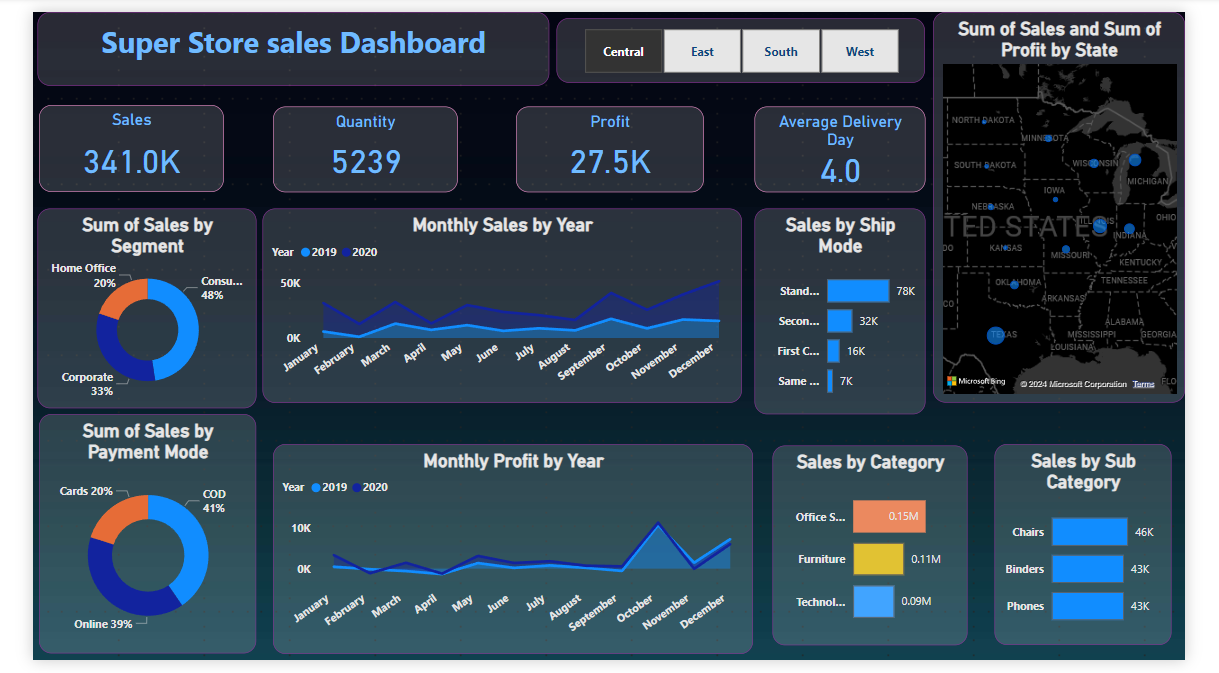

This screenshot's page, from the dashboard's own definition file:
{"tool":"powerbi","page":{"name":"Dashboard","canvas":[1280,720],"ordinal":0},"visuals":[{"type":"clusteredBarChart","title":"Sales by Category","fields":{"Category":["SuperStore_Sales_Dataset.Category"],"Y":["Sum(SuperStore_Sales_Dataset.Sales)"]},"box":[821.7,481.7,216.7,221.7],"z":0},{"type":"clusteredBarChart","title":"Sales by Sub Category","fields":{"Y":["Sum(SuperStore_Sales_Dataset.Sales)"],"Category":["SuperStore_Sales_Dataset.Sub-Category"]},"box":[1068.3,480,196.7,223.3],"z":1000},{"type":"clusteredBarChart","title":"Sales by Ship Mode","fields":{"Category":["SuperStore_Sales_Dataset.Ship Mode"],"Y":["Sum(SuperStore_Sales_Dataset.Sales)"]},"box":[801.7,218.3,190,228.3],"z":2000},{"type":"stackedAreaChart","title":"Monthly Sales by Year","fields":{"Y":["Sum(SuperStore_Sales_Dataset.Sales)"],"Series":["SuperStore_Sales_Dataset.Order Date.Variation.Date Hierarchy.Year"],"Category":["SuperStore_Sales_Dataset.Order Date.Variation.Date Hierarchy.Month","SuperStore_Sales_Dataset.Order Date.Variation.Date Hierarchy.Day"]},"box":[255,217.5,532.5,216.2],"z":3000},{"type":"stackedAreaChart","title":"Monthly Profit by Year","fields":{"Series":["SuperStore_Sales_Dataset.Order Date.Variation.Date Hierarchy.Year"],"Category":["SuperStore_Sales_Dataset.Order Date.Variation.Date Hierarchy.Month","SuperStore_Sales_Dataset.Order Date.Variation.Date Hierarchy.Day"],"Y":["Sum(SuperStore_Sales_Dataset.Profit)"]},"box":[266.7,480,533.3,233.3],"z":4000},{"type":"map","fields":{"Size":["Sum(SuperStore_Sales_Dataset.Sales)"],"Category":["SuperStore_Sales_Dataset.State"]},"box":[1000,0,280,433.8],"z":5000},{"type":"donutChart","fields":{"Y":["Sum(SuperStore_Sales_Dataset.Sales)"],"Category":["SuperStore_Sales_Dataset.Payment Mode"]},"box":[6.2,446.2,241.2,266.2],"z":7000},{"type":"slicer","fields":{"Values":["SuperStore_Sales_Dataset.Region"]},"box":[582.4,6.4,409.6,72],"z":8000},{"type":"donutChart","fields":{"Category":["SuperStore_Sales_Dataset.Segment"],"Y":["Sum(SuperStore_Sales_Dataset.Sales)"]},"box":[5,218.3,243.3,221.7],"z":9000},{"type":"textbox","box":[5,0,568.3,81.7],"z":10000},{"type":"card","title":"Sales","fields":{"Values":["Sum(SuperStore_Sales_Dataset.Sales)"]},"box":[6.7,103.3,205,96.7],"z":11000},{"type":"card","title":"Quantity","fields":{"Values":["Sum(SuperStore_Sales_Dataset.Quantity)"]},"box":[266.7,105,205,95],"z":12000},{"type":"card","title":"Profit","fields":{"Values":["Sum(SuperStore_Sales_Dataset.Profit)"]},"box":[536.7,105,208.3,95],"z":13000},{"type":"card","title":"Average Delivery Day","fields":{"Values":["Avg(SuperStore_Sales_Dataset.AvgDeliveryDay)"]},"box":[801.7,105,190,95],"z":14000}]}

Visuals, with their boxes in screenshot pixels (x1, y1, x2, y2), scaled from the page's 1280x720 canvas onto the 1219x673 screenshot:
"Sales by Category" clusteredBarChart: l=783, t=450, r=989, b=657
"Sales by Sub Category" clusteredBarChart: l=1017, t=449, r=1205, b=657
"Sales by Ship Mode" clusteredBarChart: l=763, t=204, r=944, b=417
"Monthly Sales by Year" stackedAreaChart: l=243, t=203, r=750, b=405
"Monthly Profit by Year" stackedAreaChart: l=254, t=449, r=762, b=667
map - Sum(SuperStore_Sales_Dataset.Sales) x SuperStore_Sales_Dataset.State: l=952, t=0, r=1218, b=405
donutChart - Sum(SuperStore_Sales_Dataset.Sales) x SuperStore_Sales_Dataset.Payment Mode: l=6, t=417, r=236, b=666
slicer - SuperStore_Sales_Dataset.Region: l=555, t=6, r=945, b=73
donutChart - SuperStore_Sales_Dataset.Segment x Sum(SuperStore_Sales_Dataset.Sales): l=5, t=204, r=236, b=411
textbox: l=5, t=0, r=546, b=76
"Sales" card: l=6, t=97, r=202, b=187
"Quantity" card: l=254, t=98, r=449, b=187
"Profit" card: l=511, t=98, r=709, b=187
"Average Delivery Day" card: l=763, t=98, r=944, b=187
